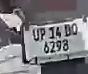1: (46, 25, 55, 40)
2: (48, 40, 57, 55)
4: (54, 27, 63, 38)
6: (42, 40, 49, 56)
8: (62, 38, 70, 52)
9: (55, 40, 62, 53)
D: (63, 23, 71, 37)
O: (70, 22, 79, 36)
P: (39, 27, 46, 41)
U: (32, 29, 39, 41)
